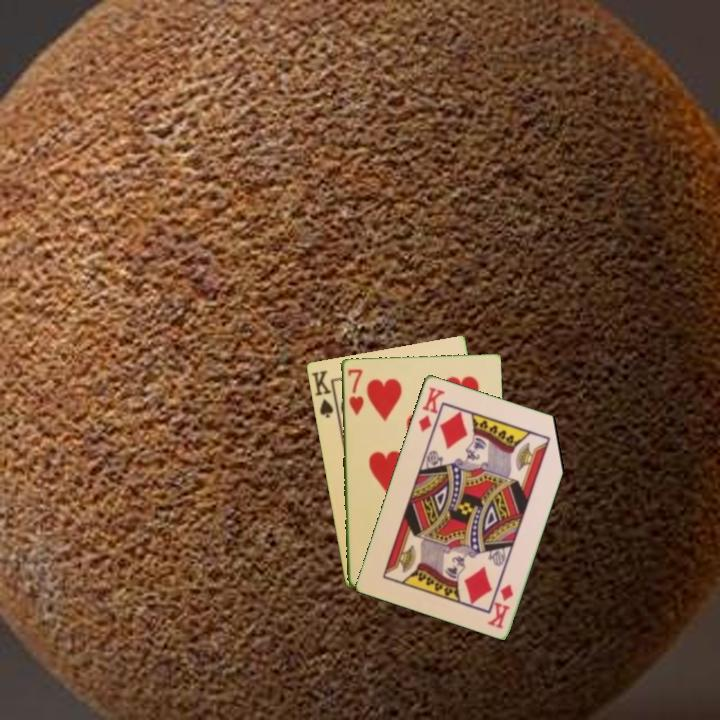7h: (344, 365, 366, 418)
Kd: (415, 383, 447, 435), (485, 580, 517, 631)
Ks: (308, 366, 341, 421)
